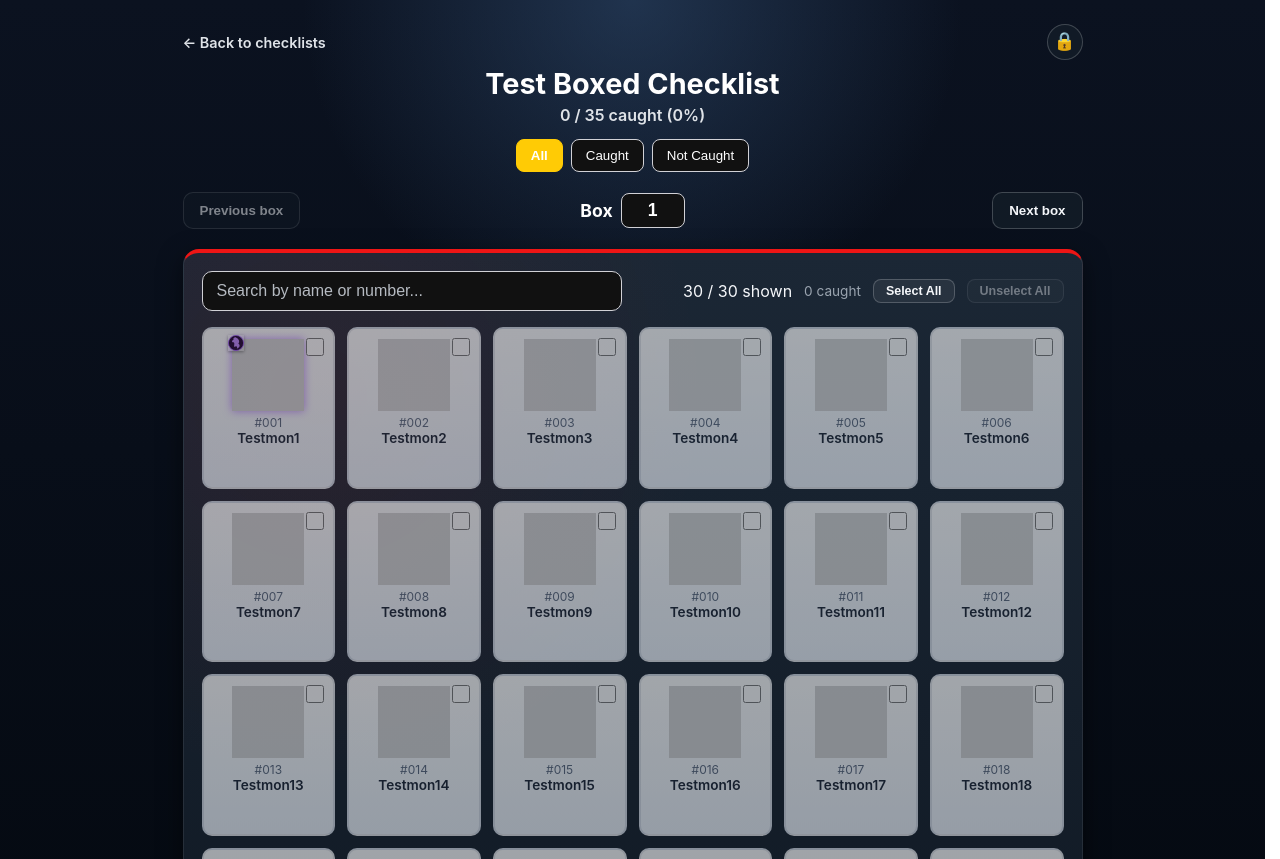
Scenario: ChecklistPage - the password lock › unlocks with the right password and then toggles the item
Click the element showing "#001 Testmon1" at (268, 408), box x1=202 y1=327 x2=335 y2=489
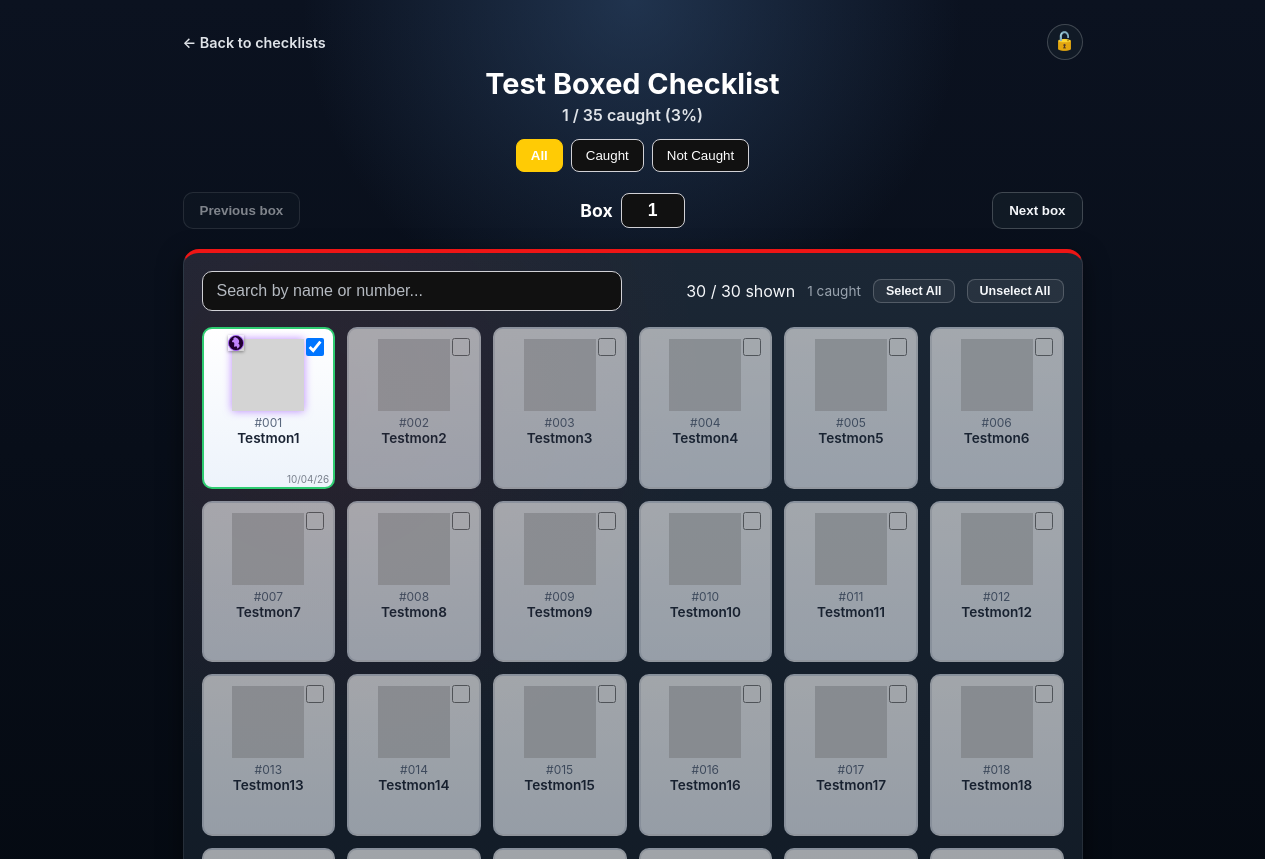
Check: the text "1 / 35 caught (3%)" is shown, box x1=562 y1=105 x2=703 y2=125
Check: the button named "Editing unlocked — tap to relock" is shown, box x1=1046 y1=24 x2=1082 y2=60
